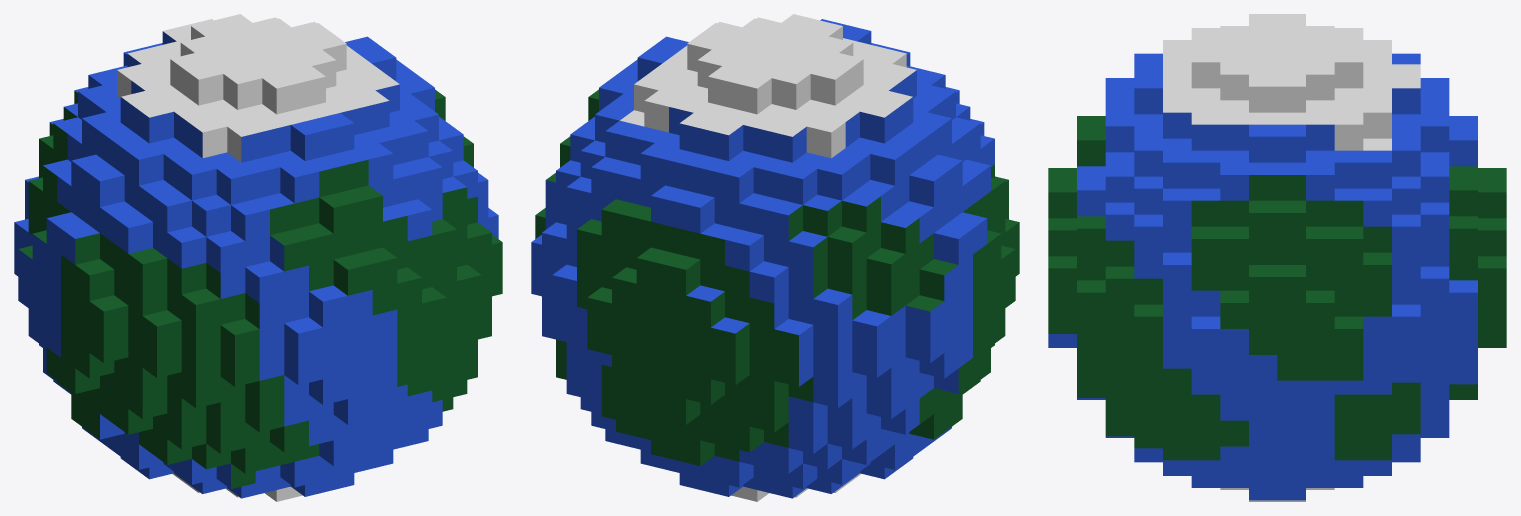
The model's file is Earth Like Planet.fbx.
The picture shows the model from 3 angles, left to right: view 1: azimuth 30°, elevation 25°; view 2: azimuth 150°, elevation 25°; view 3: azimuth 270°, elevation 25°; orthographic projection.
Parts seen in each view (by area): view 1: Planet.001; view 2: Planet.001; view 3: Planet.001.
Boxes of the visible parts, x1,y1,x2,y2 form: Planet.001: (14, 14, 502, 501); Planet.001: (531, 14, 1019, 501); Planet.001: (1048, 14, 1506, 501).
Bounding box in the file's own units: 3200 × 3200 × 3200.
